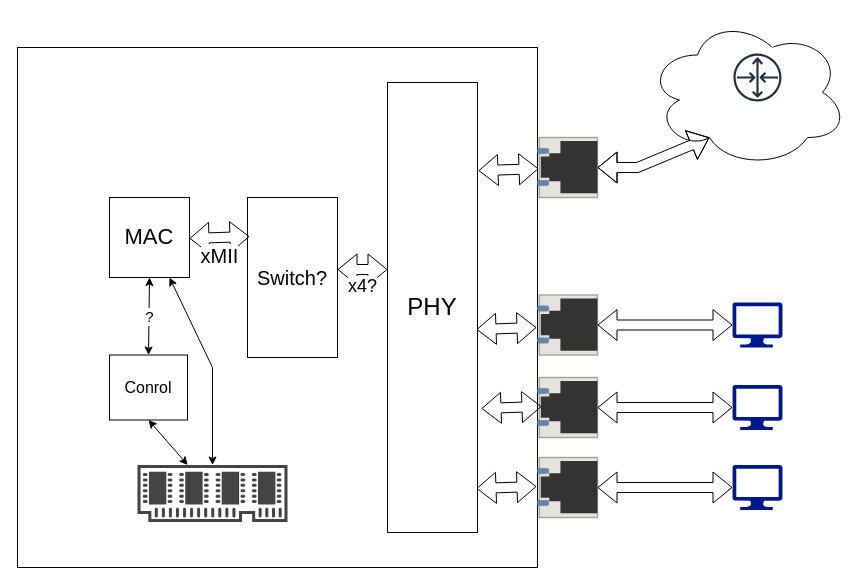
Some shapes in this 865 by 585 pixel diagram are drawn without their labels. Here are the shapes that lost their labels. From the top down, the centre of each, then its label:
At (x=757, y=77): "Outside Network".
At (x=212, y=493): "DRAM + Controller".
